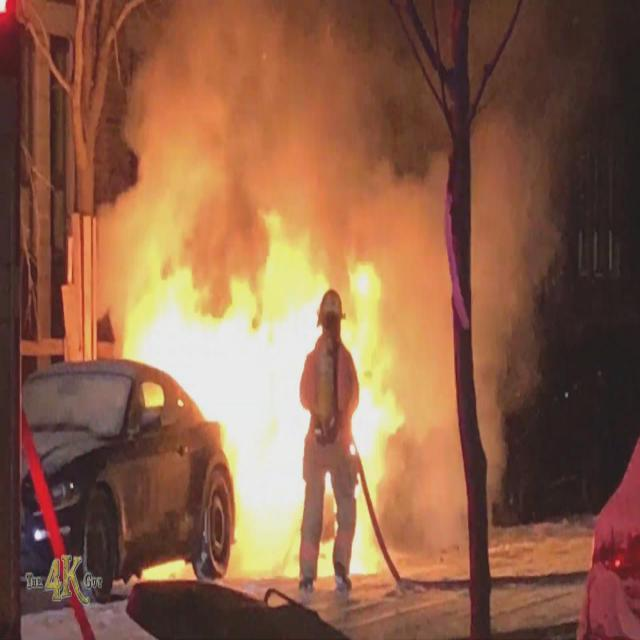Fire: (127, 212, 323, 580), (339, 257, 394, 578)
